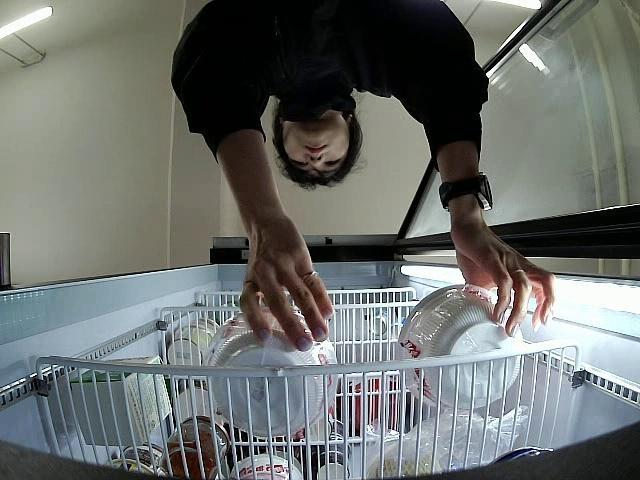09_yukGaeJang: (398, 284, 524, 412), (206, 317, 338, 436)
